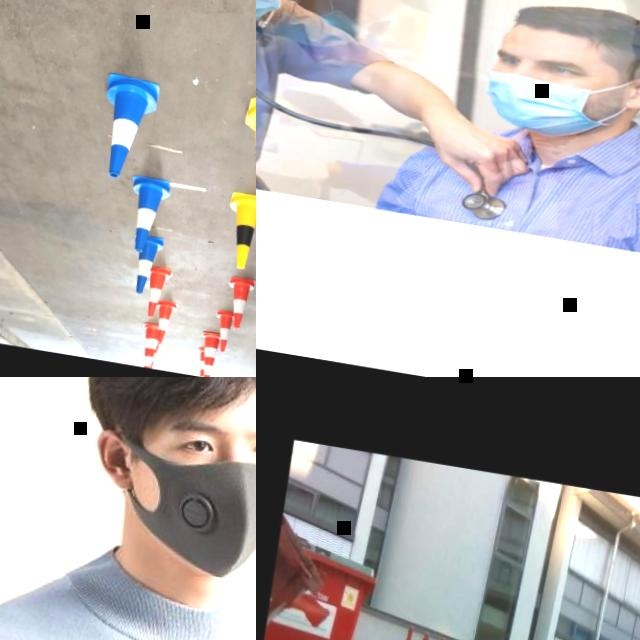Mask: (108, 423, 256, 585), (480, 66, 597, 143), (278, 2, 383, 54)
NO-Hardhat: (502, 0, 640, 74), (91, 377, 256, 433), (282, 89, 378, 123)
NO-Safety Vest: (0, 568, 256, 640)
Person: (386, 0, 640, 276), (0, 377, 256, 640), (256, 0, 542, 229), (263, 0, 443, 49)
Safety Cone: (88, 70, 165, 182), (119, 174, 171, 257), (218, 188, 256, 273), (229, 93, 256, 209), (131, 234, 165, 297), (221, 277, 256, 332), (141, 265, 173, 321), (151, 299, 178, 352), (136, 322, 162, 369), (210, 307, 236, 353), (196, 331, 219, 377), (193, 347, 212, 377)
